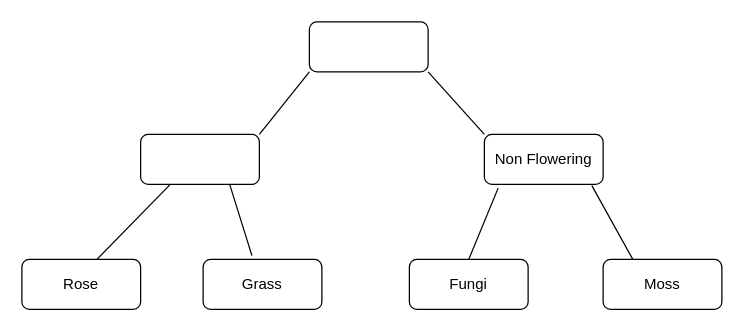
The diagram is 744 pixels wide and 331 high, and some of its shapes have lost their labels. Here are the shapes that lost their labels. From the top down, the box of each, then its label:
(308, 21, 428, 72): Plant
(139, 133, 259, 184): Flowering
